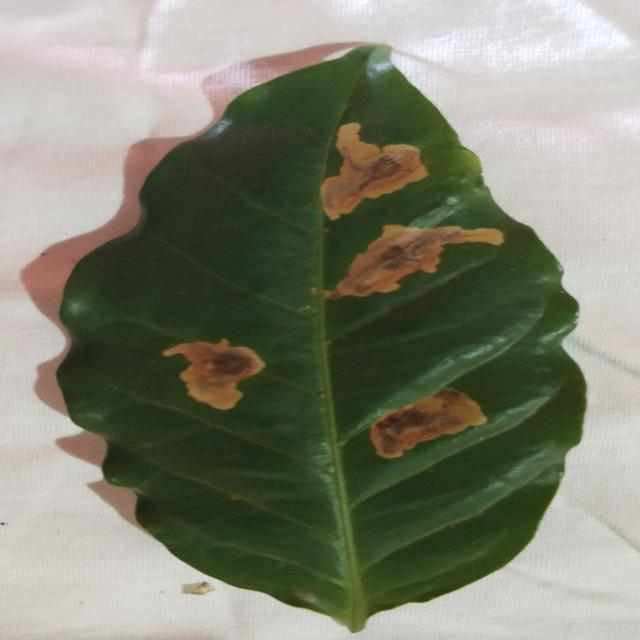Plaga-Minador: (53, 43, 589, 634)
